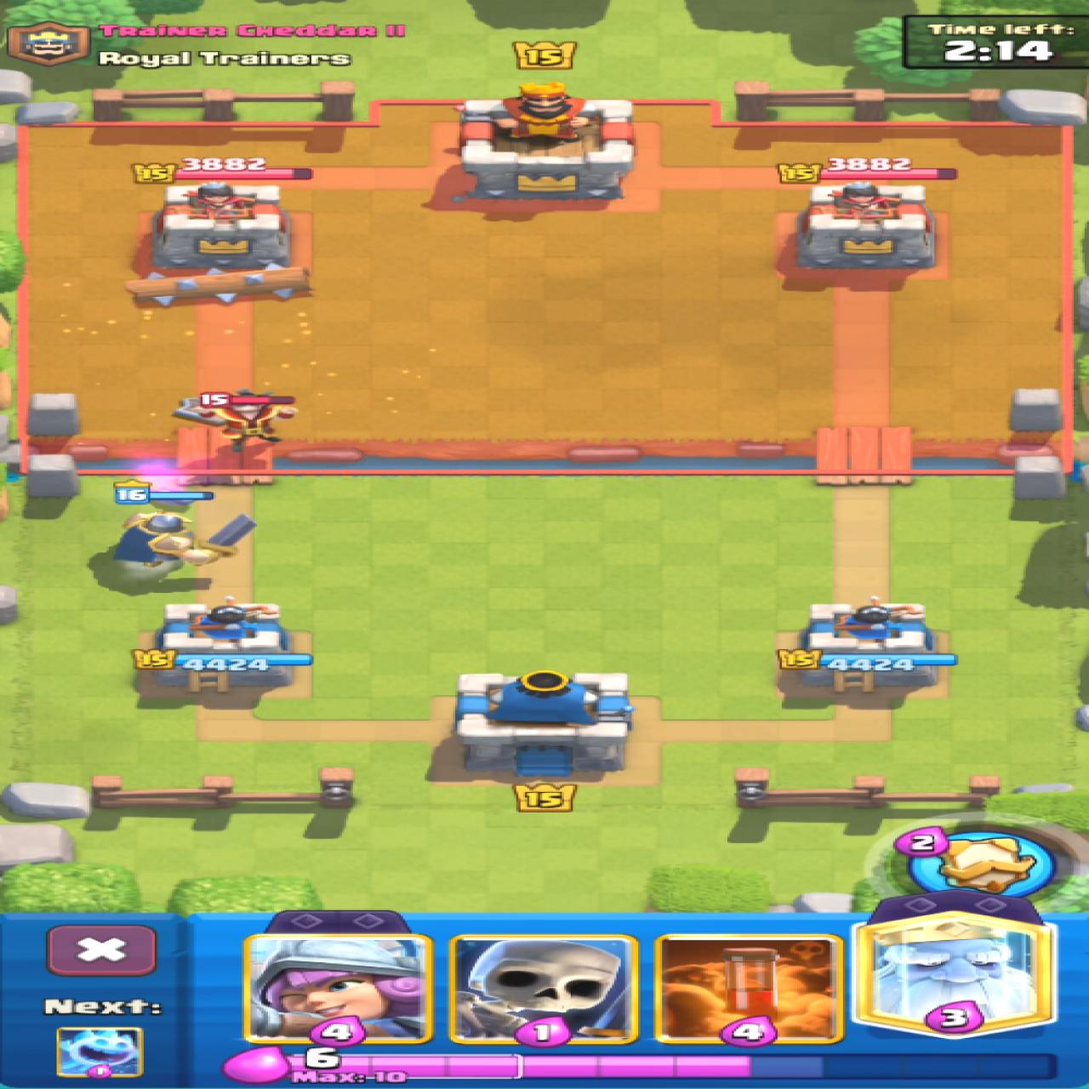Enemy-ElectroWizard: (196, 388, 296, 452)
Enemy-KingTower: (457, 82, 632, 198)
Enemy-PrincessTower: (152, 181, 287, 267), (797, 183, 932, 268)
